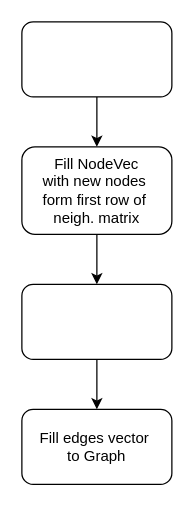
The diagram is 194 pixels wide and 506 high, and some of its shapes have lost their labels. Here are the shapes that lost their labels. From the top down, the box of each, then its label:
(21, 21, 172, 97): Read txt
(21, 283, 172, 359): Create edges based on matrix (struct Edge)
